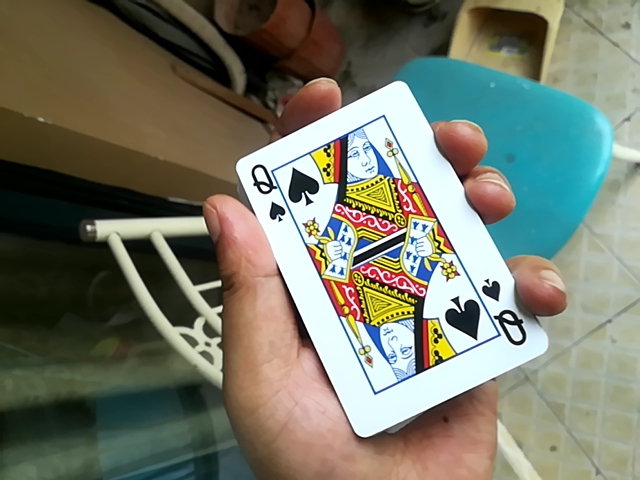ht q: (220, 83, 547, 434)
